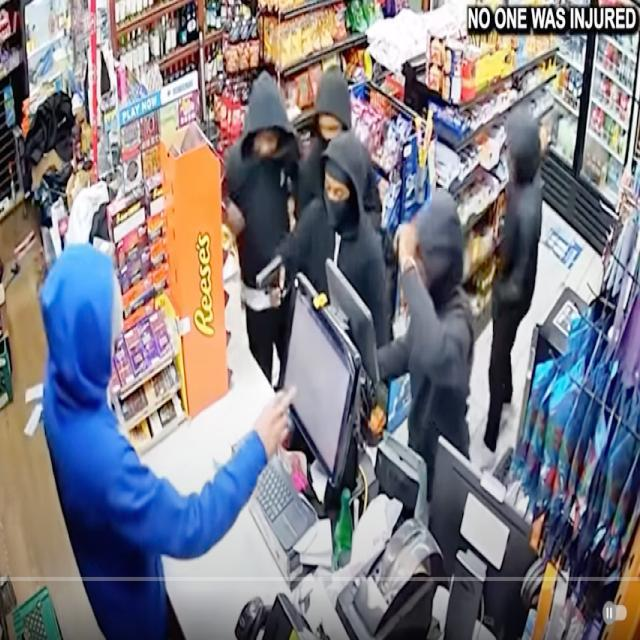Gun: (248, 248, 292, 290)
